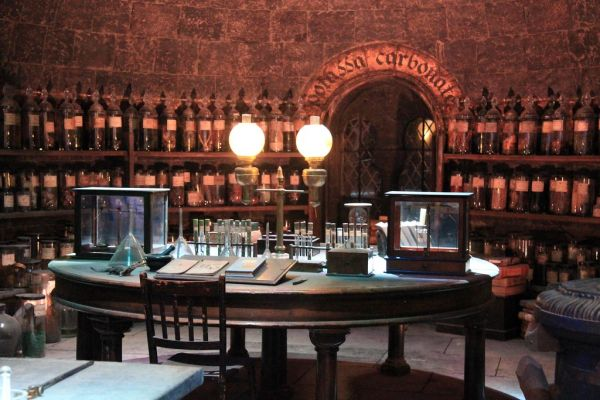unknown_bottle: (572, 91, 595, 156), (60, 89, 84, 151), (517, 95, 540, 156), (0, 303, 21, 358)
